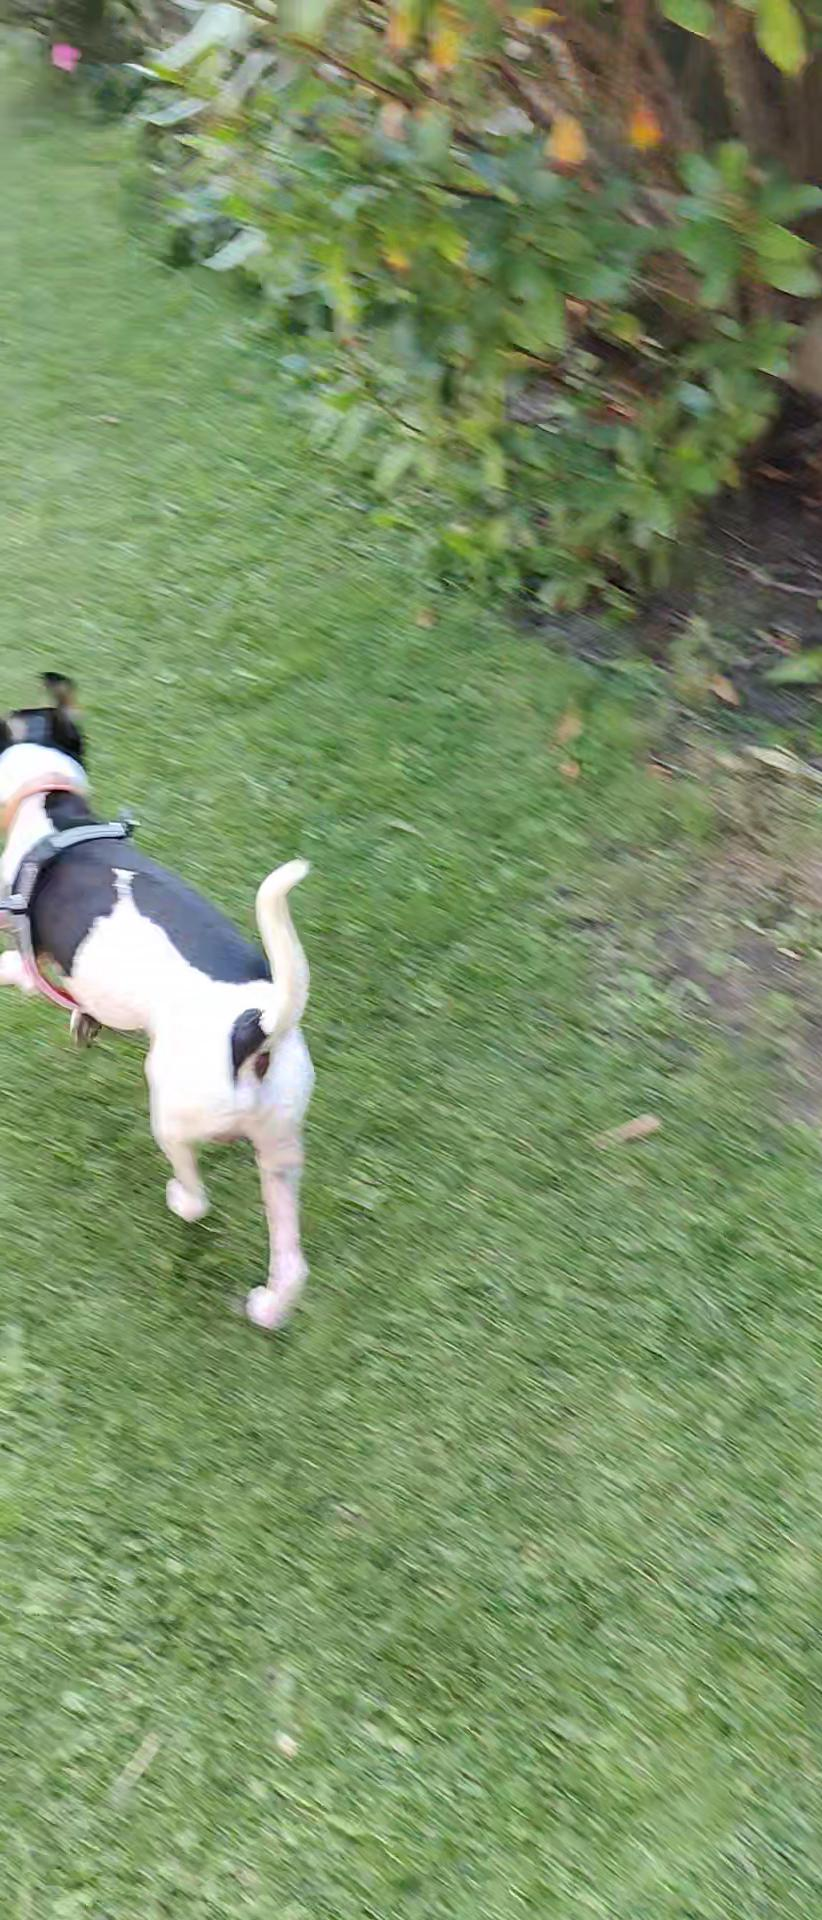Dog: (0, 651, 334, 1343)
